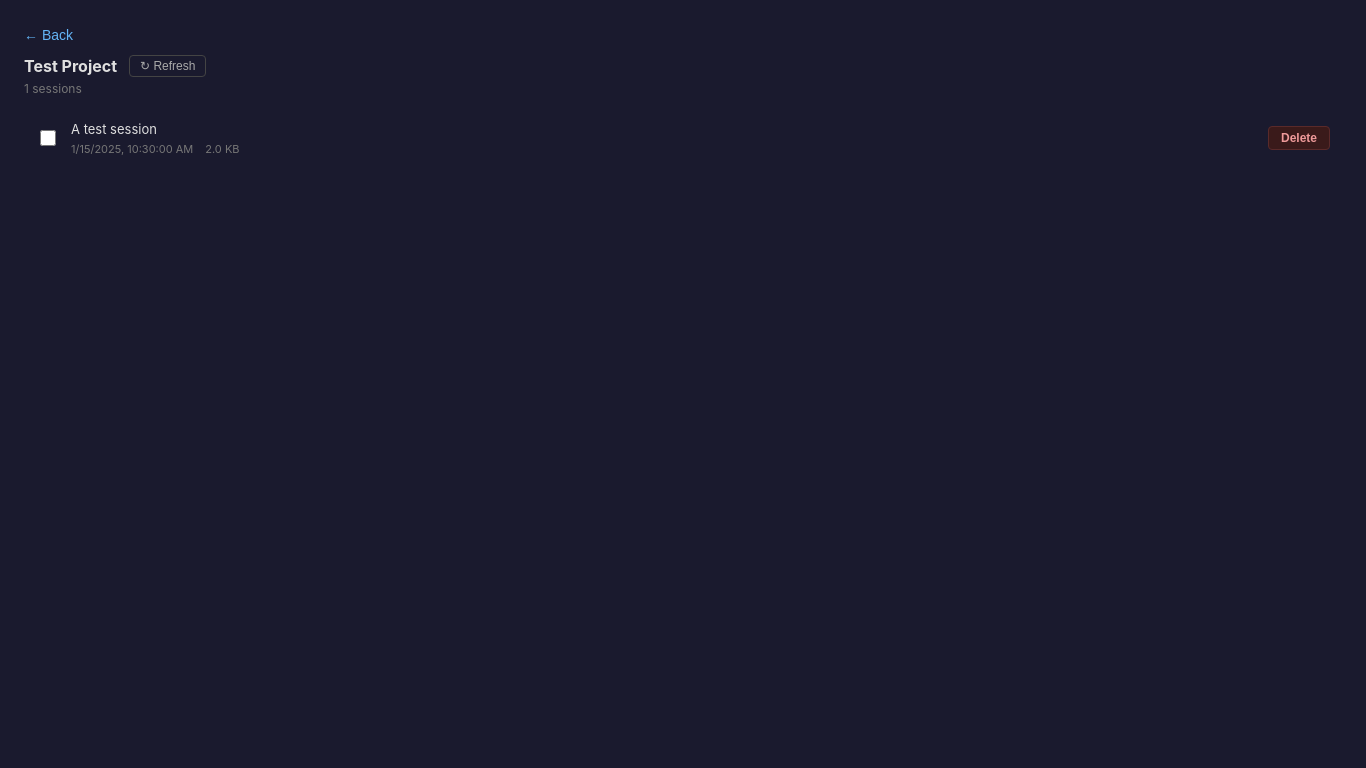
Test case: SessionList › delete flow › shows confirmation dialog when delete button is clicked
Step 1. Click the button "Delete" → (1299, 138), box [1268,126,1330,150]
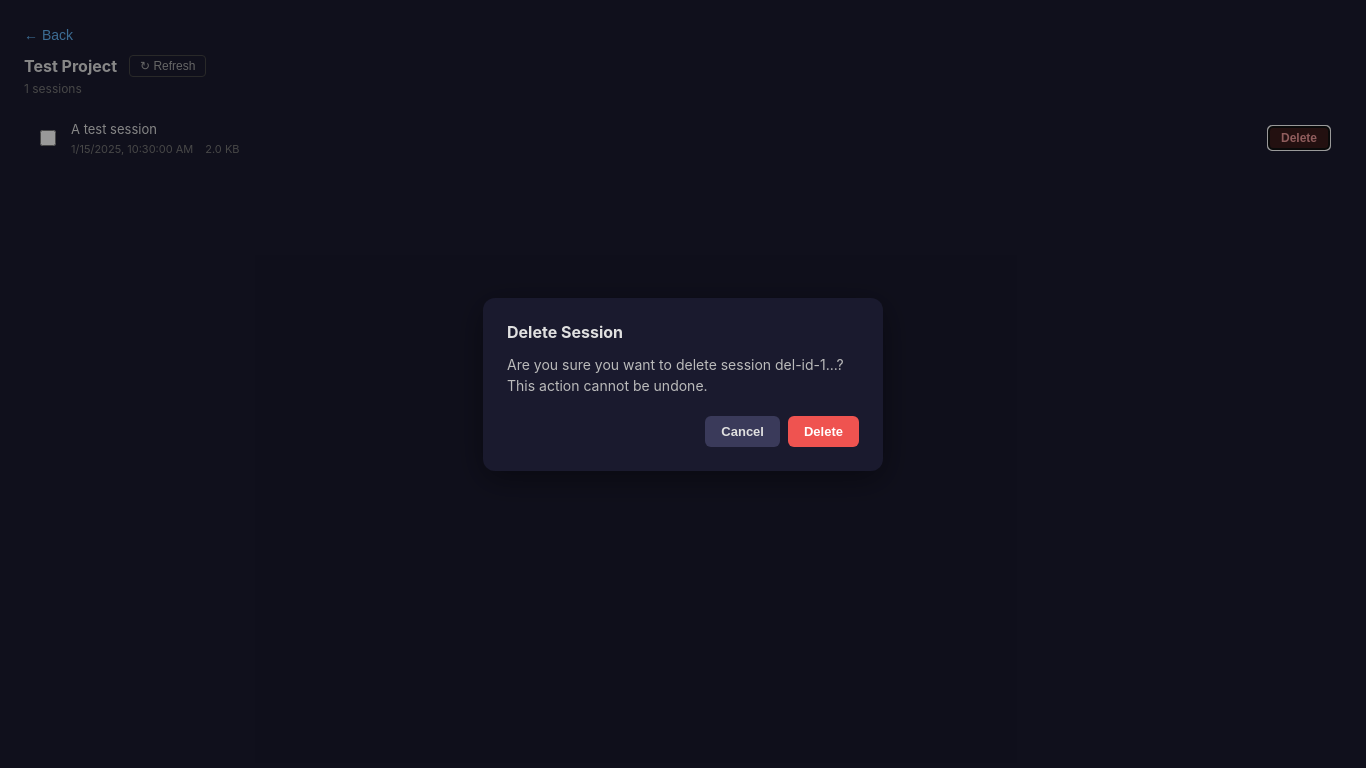
Result: the text "Are you sure" is shown at [507,356,844,394]
